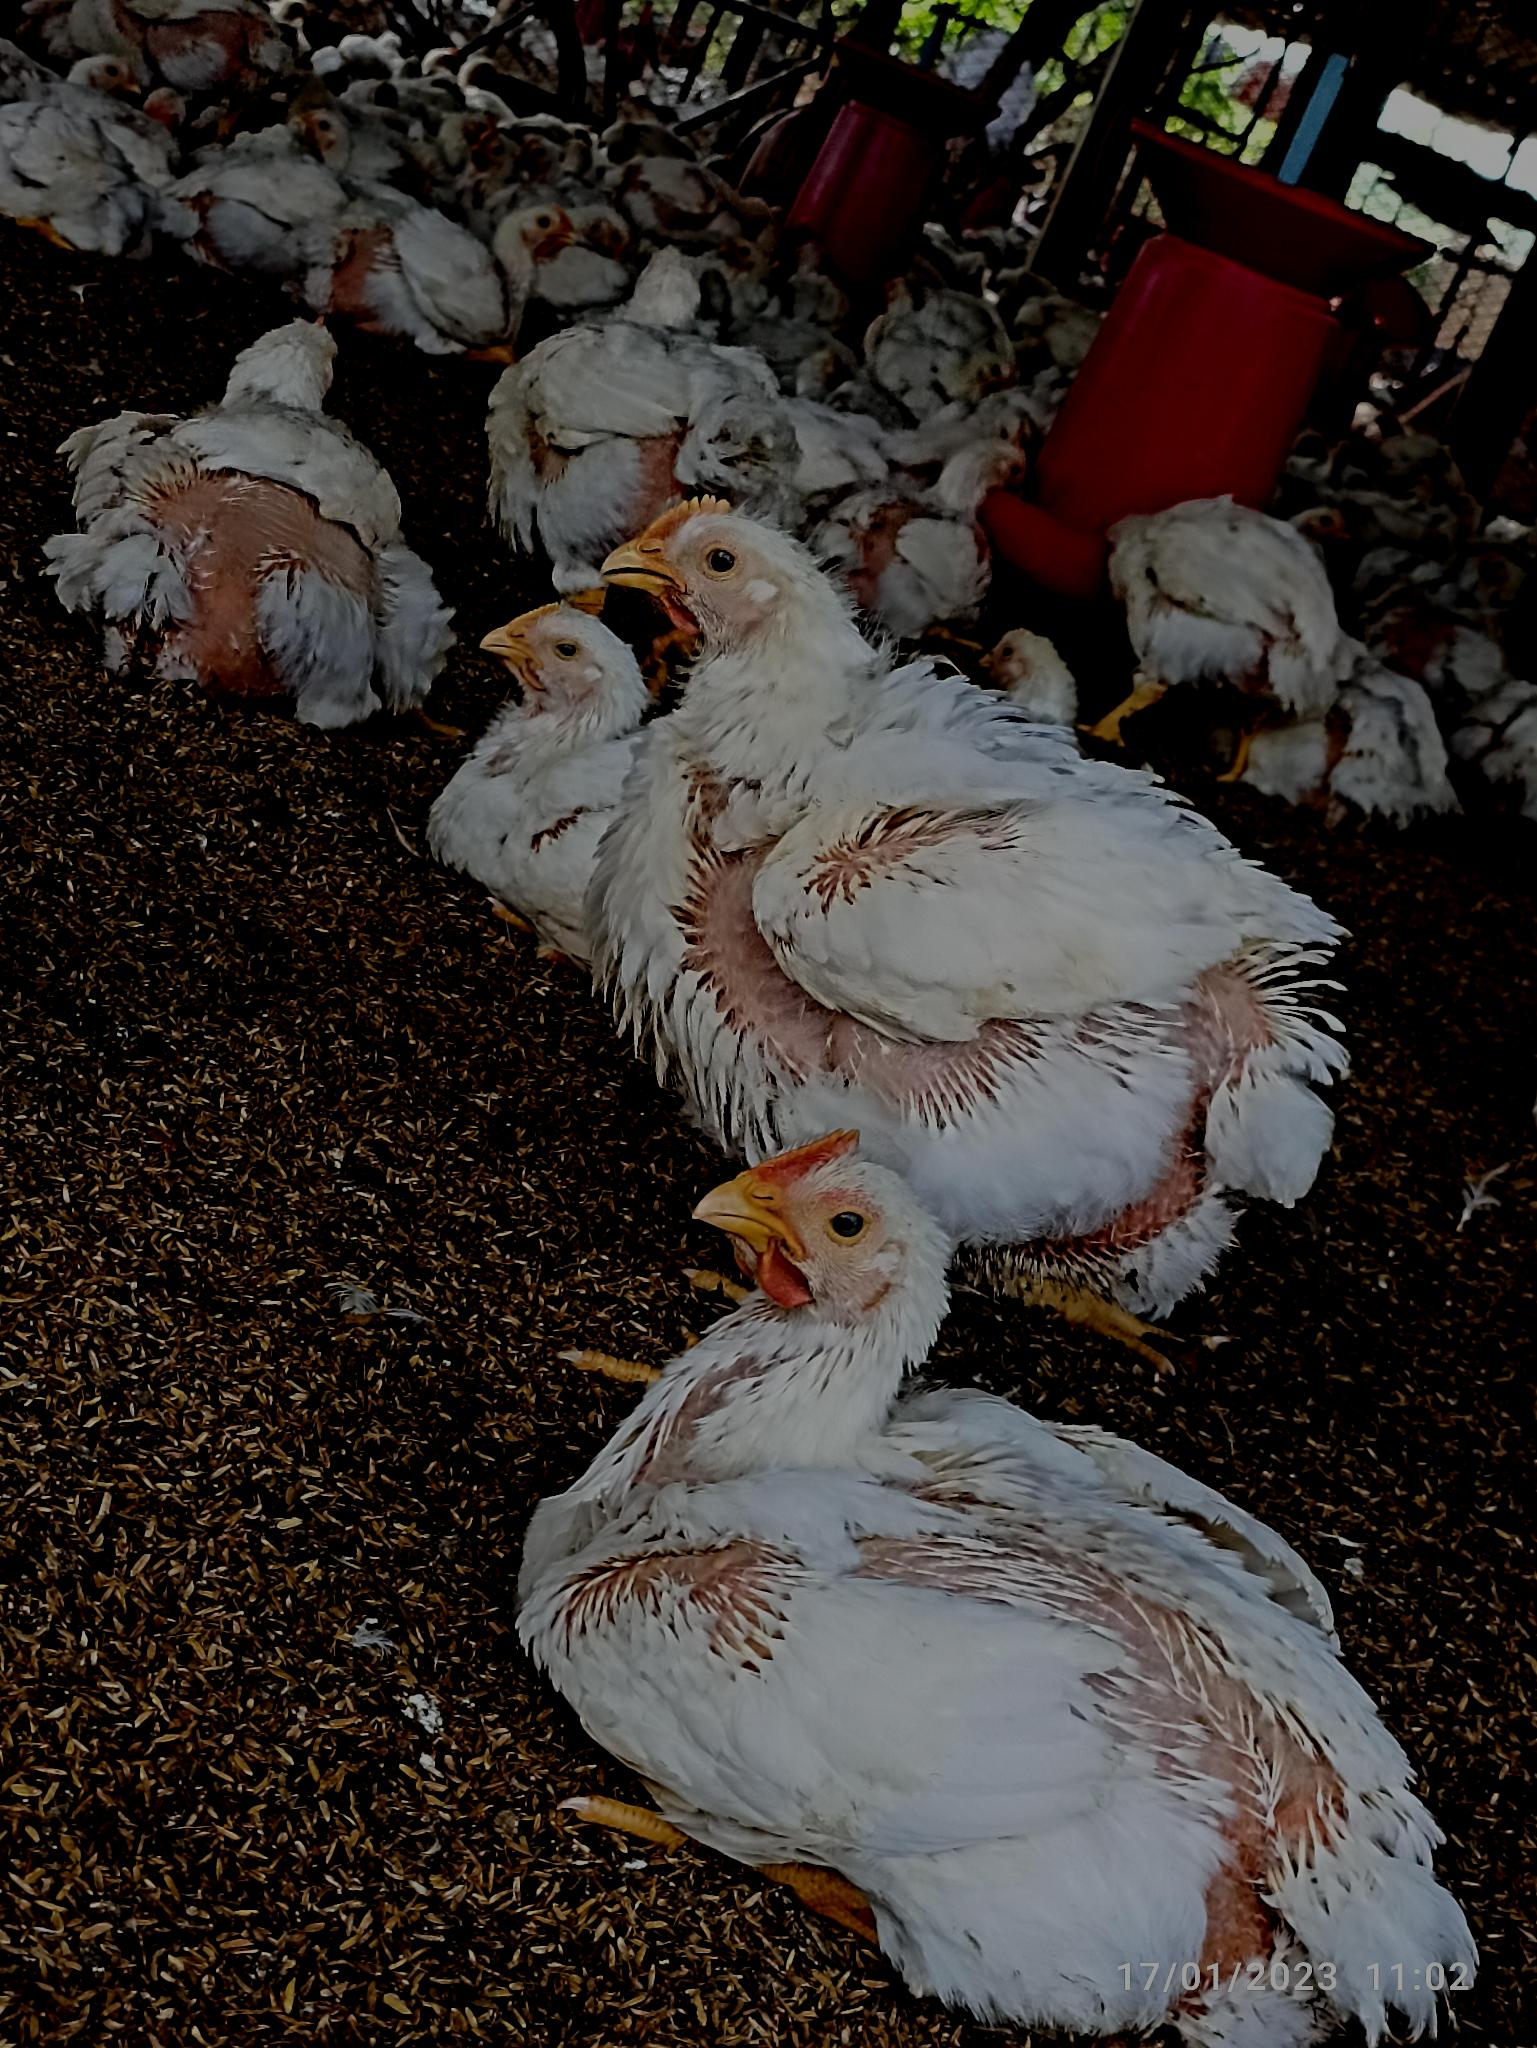Pollos: (649, 1143, 1439, 1982), (605, 489, 1245, 1131), (66, 315, 434, 713), (450, 597, 651, 891), (565, 239, 778, 470), (1146, 491, 1358, 712), (304, 192, 576, 328), (836, 429, 1040, 607)
